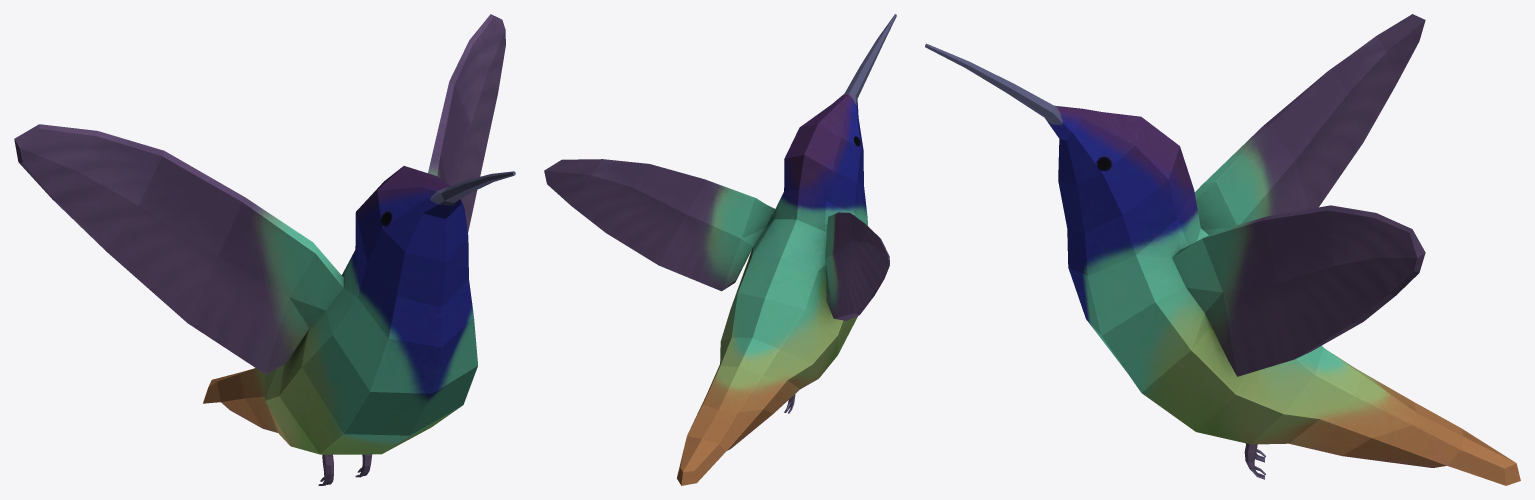
The model's file is hummingbird.glb.
The picture shows the model from 3 angles, left to right: view 1: azimuth 30°, elevation 25°; view 2: azimuth 150°, elevation 25°; view 3: azimuth 270°, elevation 25°; orthographic projection. The views are drawn at different scales.
Parts seen in each view (by area): view 1: Hummingbird_Mesh; view 2: Hummingbird_Mesh; view 3: Hummingbird_Mesh.
Part boxes in pixels (x1,y1,x2,y2): Hummingbird_Mesh: (14, 14, 515, 485); Hummingbird_Mesh: (544, 14, 896, 485); Hummingbird_Mesh: (925, 14, 1520, 485).
Bounding box in the file's own units: 2.11 × 1.85 × 2.28.
Materials: 1 (1 with a texture image).
